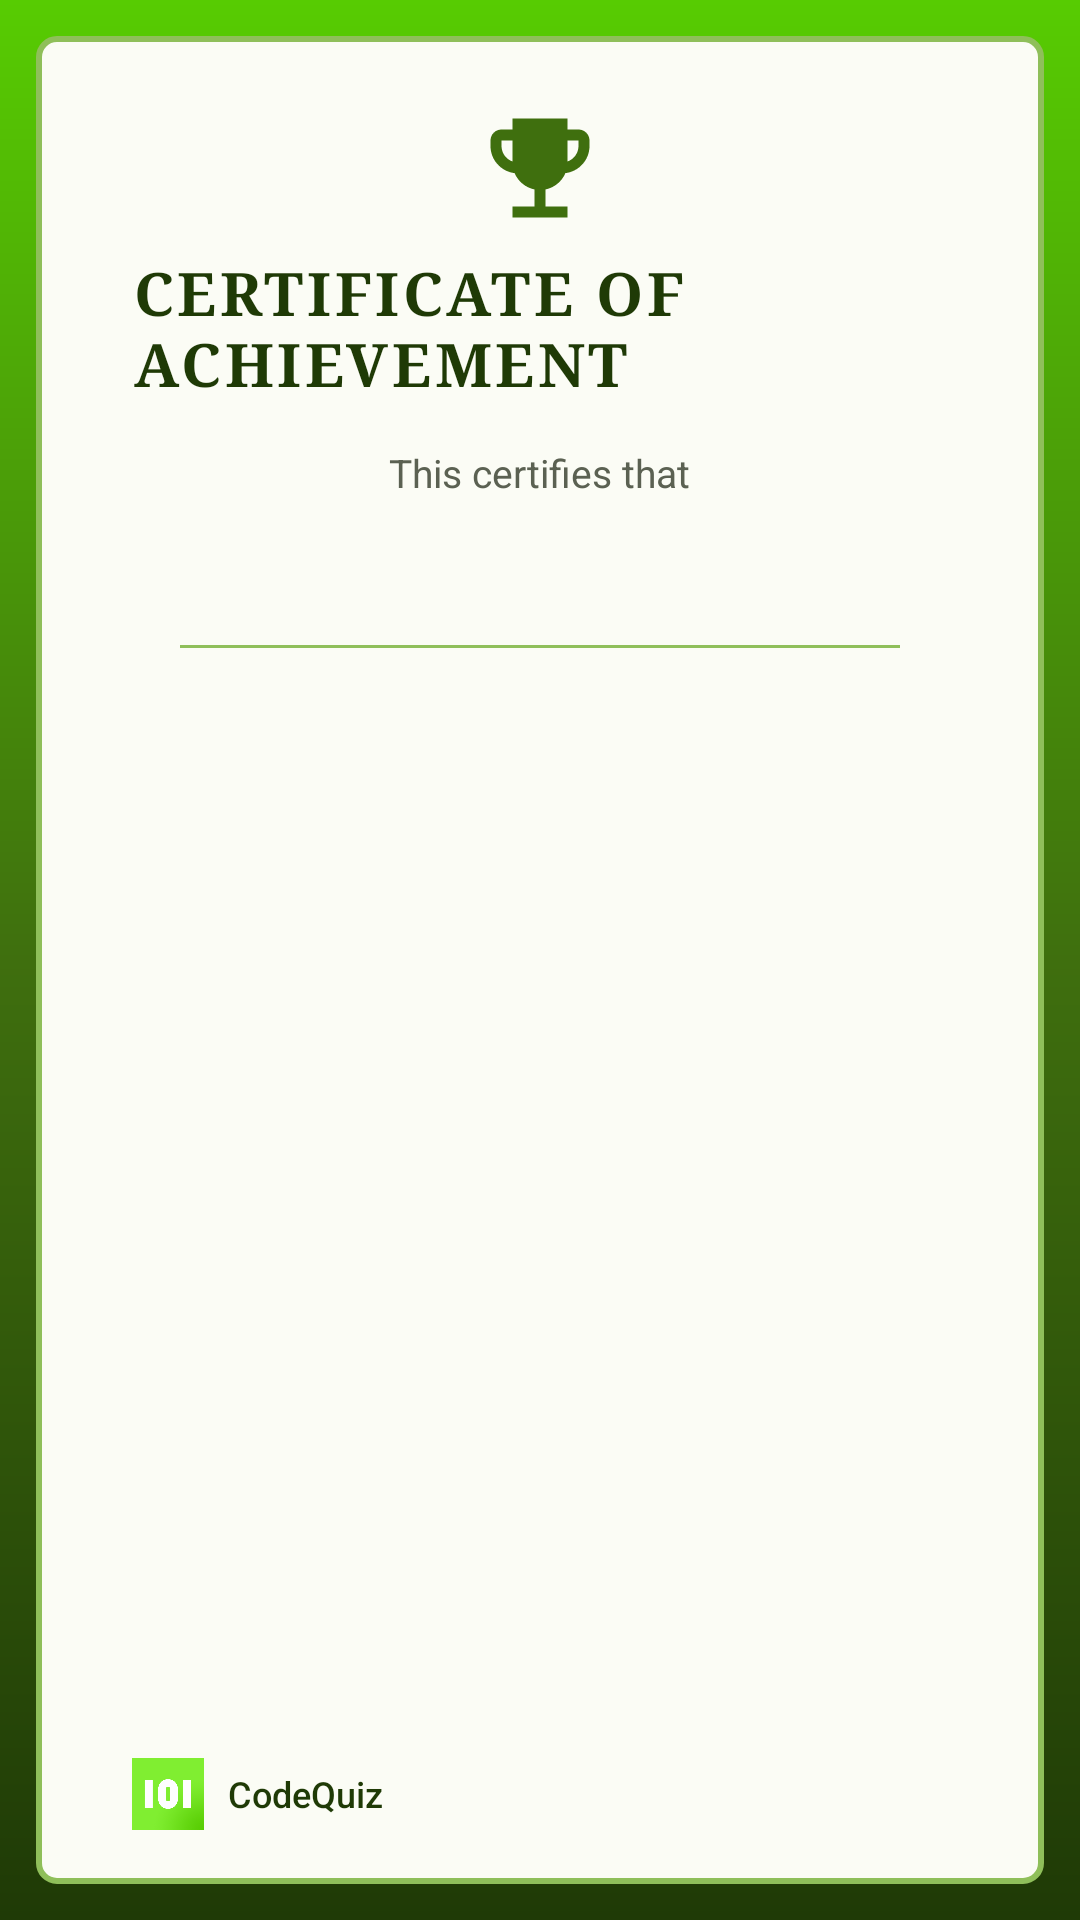

Icons on this 1080w x 1920h Android screen, each with its box as (x1, y1, x2, y2):
trophy: (490, 118, 590, 218)
